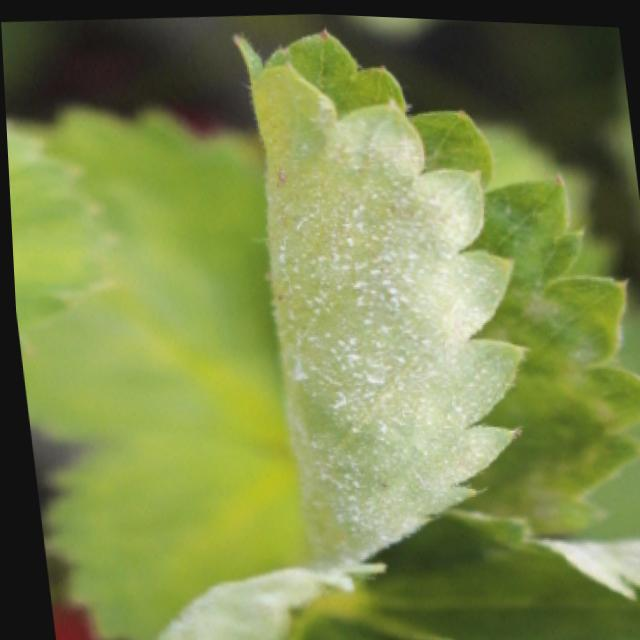Powdery Mildew Leaf: (227, 21, 640, 555), (350, 503, 640, 640), (143, 553, 456, 640)
